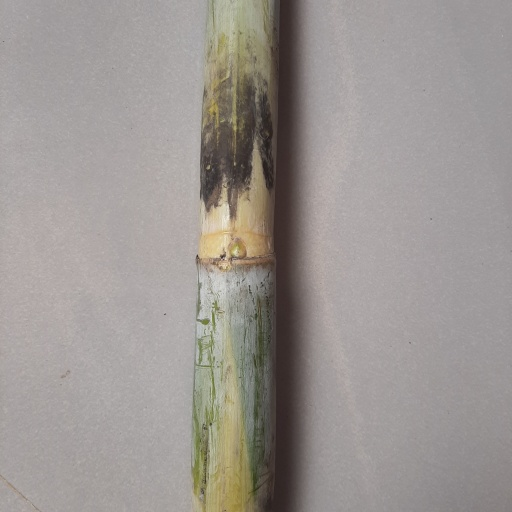Bud: (228, 237, 248, 260)
